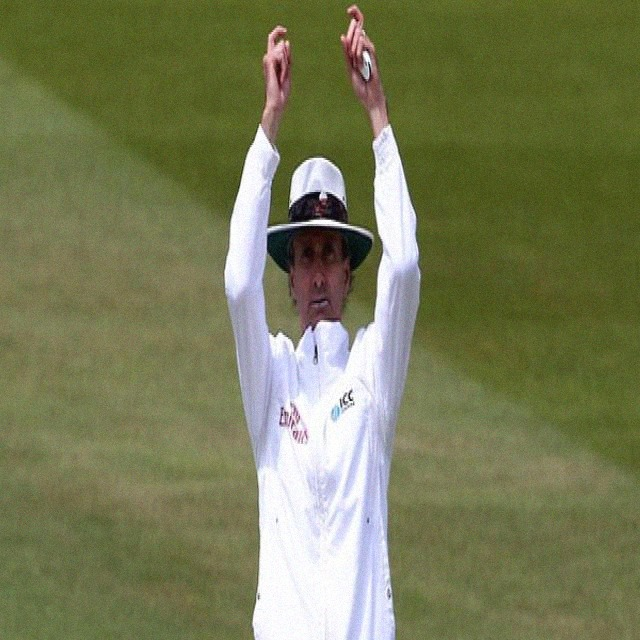Six: (219, 2, 431, 640)
